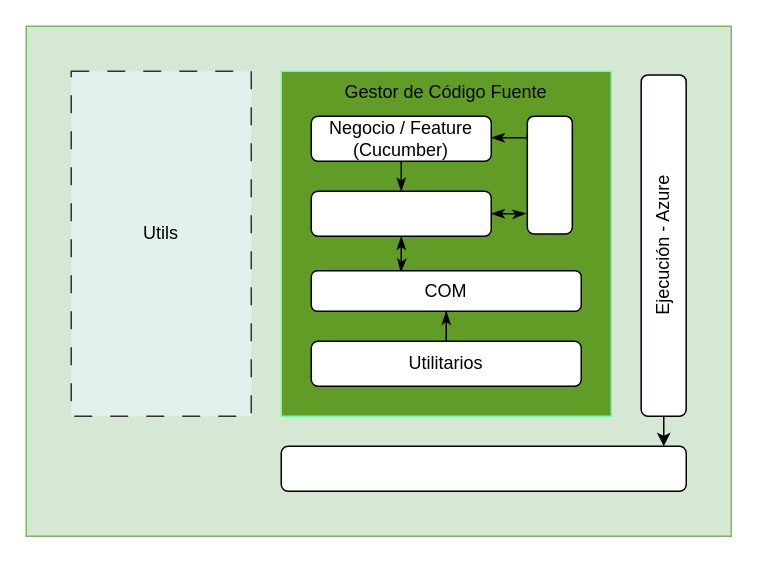
Image size: 758x563. Some labels were removed from this diagram. Each missing label, with the centre of its shape:
Data Driven: pixel 549 174
Definition: pixel 400 213
Resultados (Serenity) - Work Item: pixel 483 468
